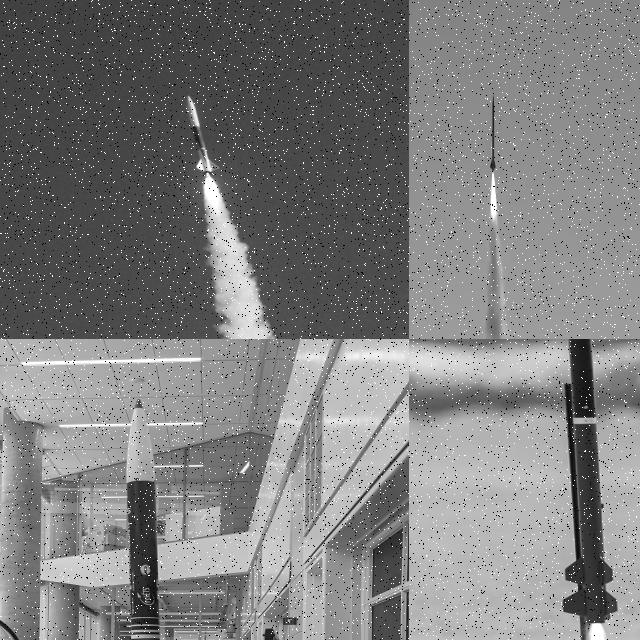Rocket: (559, 339, 620, 627), (126, 399, 160, 640), (184, 94, 220, 175), (489, 94, 497, 172)
